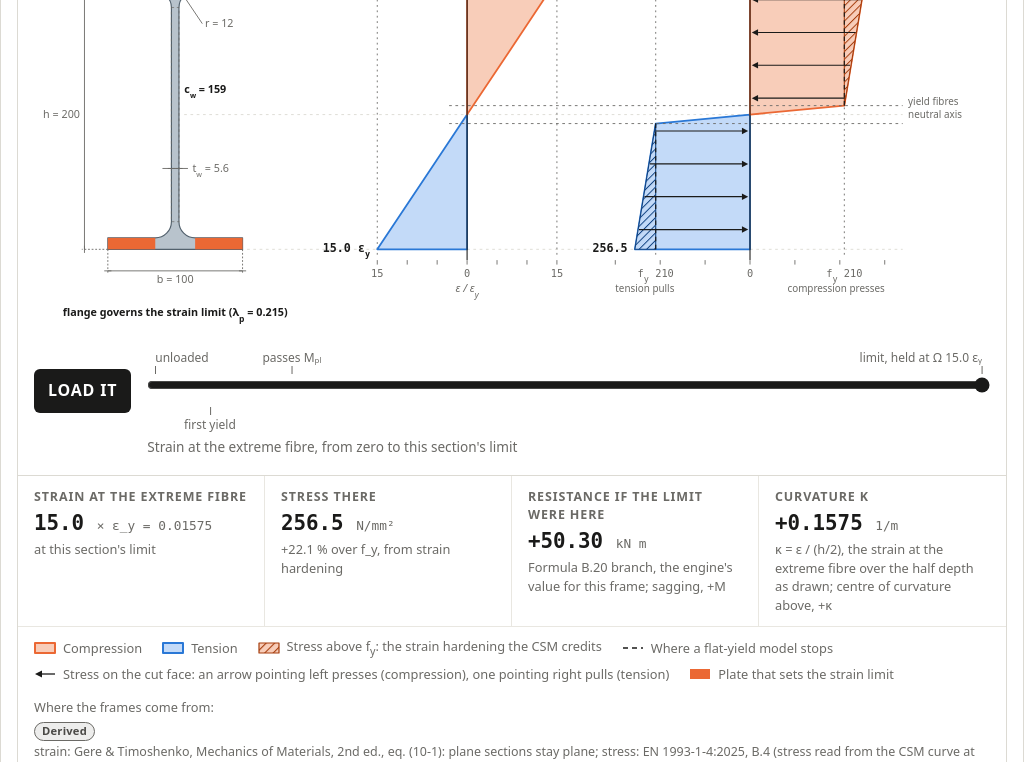
Scenario: the stage › a mid frame reads the engine's strain, stress and resistance for that frame
(page scrolled)
Set the slider named "Strain at the extreme fibre, from zero to the strain limit" to "8" at (210, 385), box left=147, top=371, right=990, bottom=399
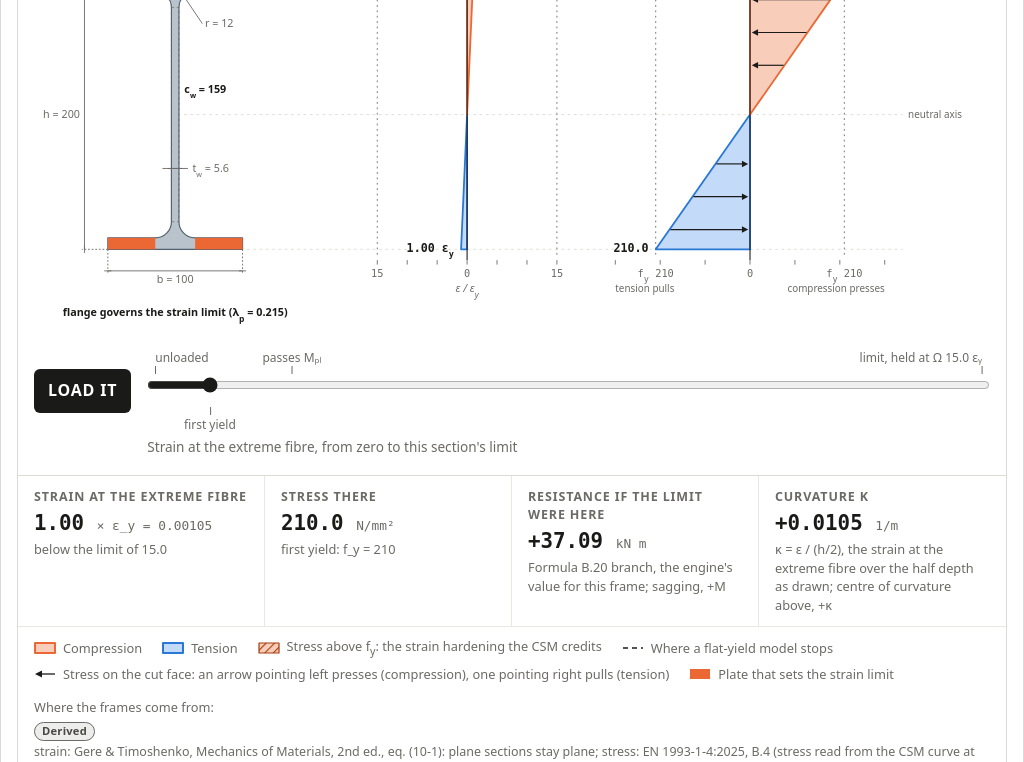
Result: the element with class "readout" shows "1.00" at left=34, top=511, right=84, bottom=535
Result: the element with class "readout" shows "210.0" at left=281, top=511, right=344, bottom=535
Result: the element with class "readout" shows "37.09" at left=540, top=529, right=603, bottom=553
